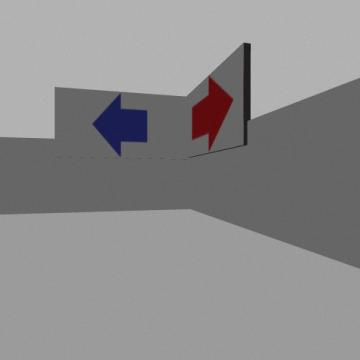blue_left: (93, 94, 147, 156)
red_right: (192, 76, 233, 150)
